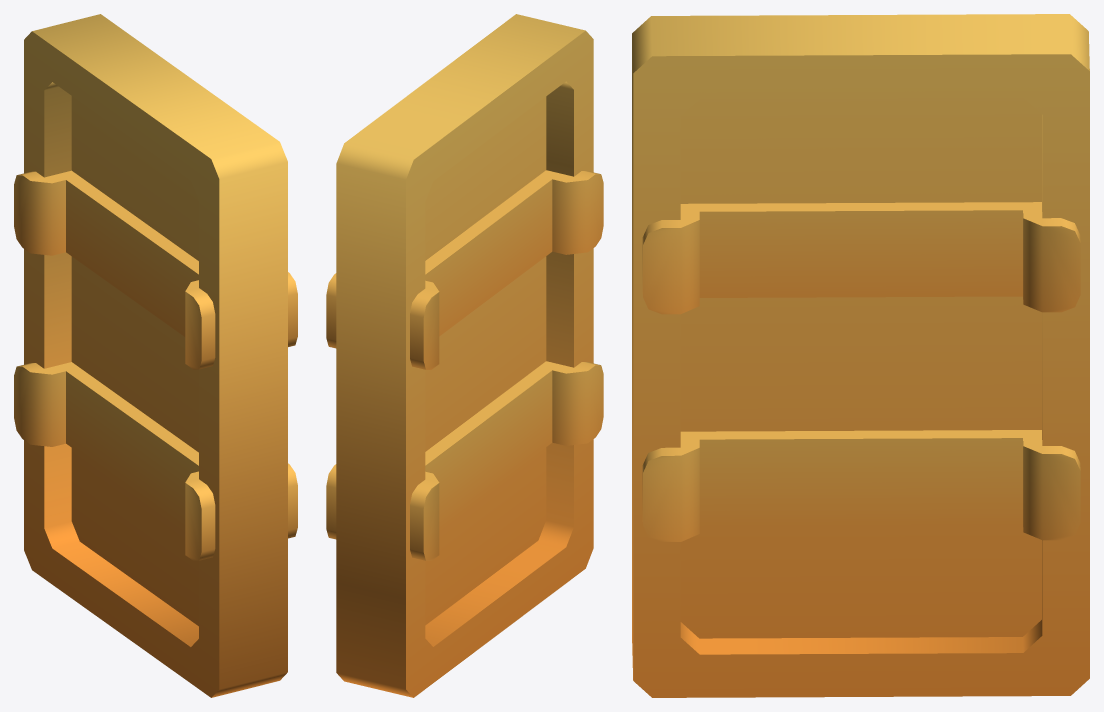
File: door.005_lev4.glb
3 views of the same model, side by side, from view 1: azimuth 30°, elevation 25°; view 2: azimuth 150°, elevation 25°; view 3: azimuth 270°, elevation 25° (orthographic). The views are drawn at different scales.
Visible parts, largest first — view 1: door.005_lev4; view 2: door.005_lev4; view 3: door.005_lev4.
Part boxes in pixels (x1,y1,x2,y2): door.005_lev4: [14, 14, 297, 697]; door.005_lev4: [326, 14, 603, 697]; door.005_lev4: [632, 14, 1089, 697].
Size of the model in its own units: 2.18 by 11.16 by 7.22.
Materials: 1 (1 with a texture image).
